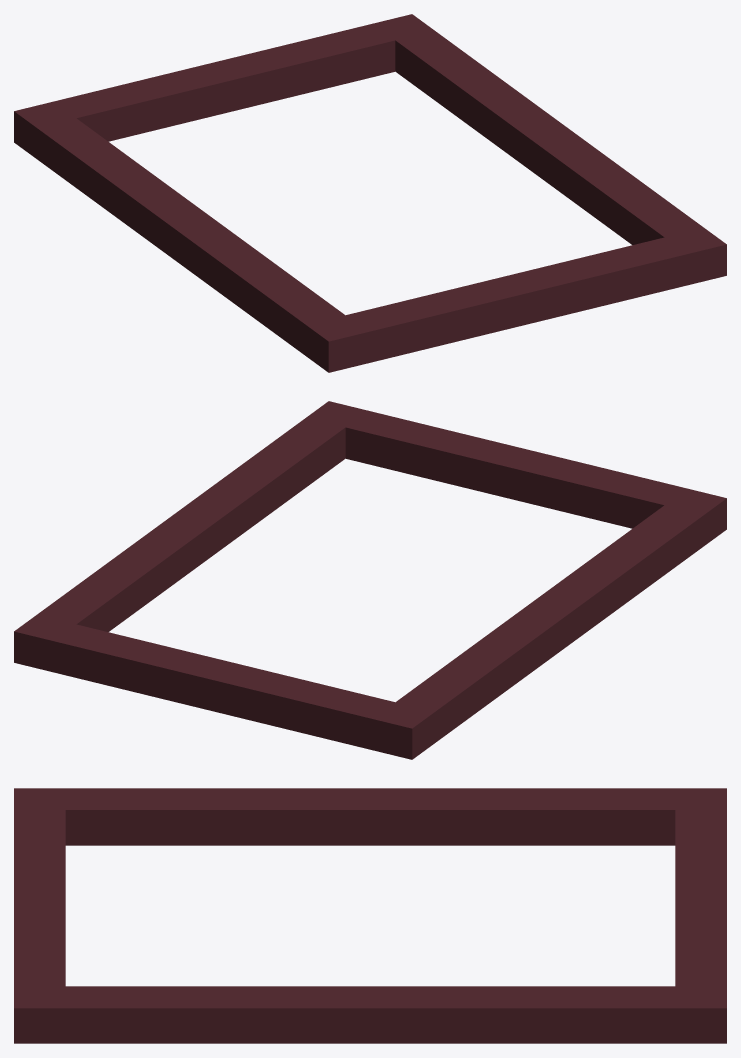
File: canvasborder.fbx
3 views of the same model, one above another, from view 1: azimuth 30°, elevation 25°; view 2: azimuth 150°, elevation 25°; view 3: azimuth 270°, elevation 25° (orthographic). The views are drawn at different scales.
Parts seen in each view (by area): view 1: Plane; view 2: Plane; view 3: Plane.
Part boxes in pixels (x1,y1,x2,y2): Plane: [14, 14, 726, 372]; Plane: [14, 401, 726, 759]; Plane: [14, 788, 726, 1043].
Bounding box in the file's own units: 200 × 15.02 × 274.
